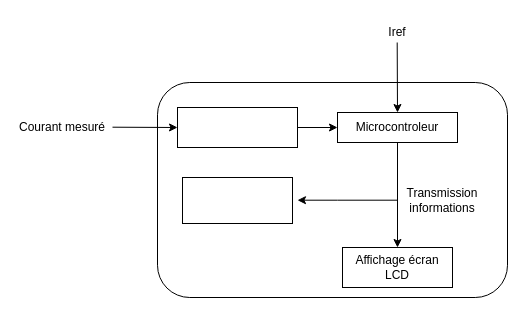
The diagram is 525 pixels wide and 315 high, and some of its shapes have lost their labels. Each missing label, with the centre of its shape:
Capteur de courant: [237,127]
Eclairage LED et démarage buzzer: [237,200]
